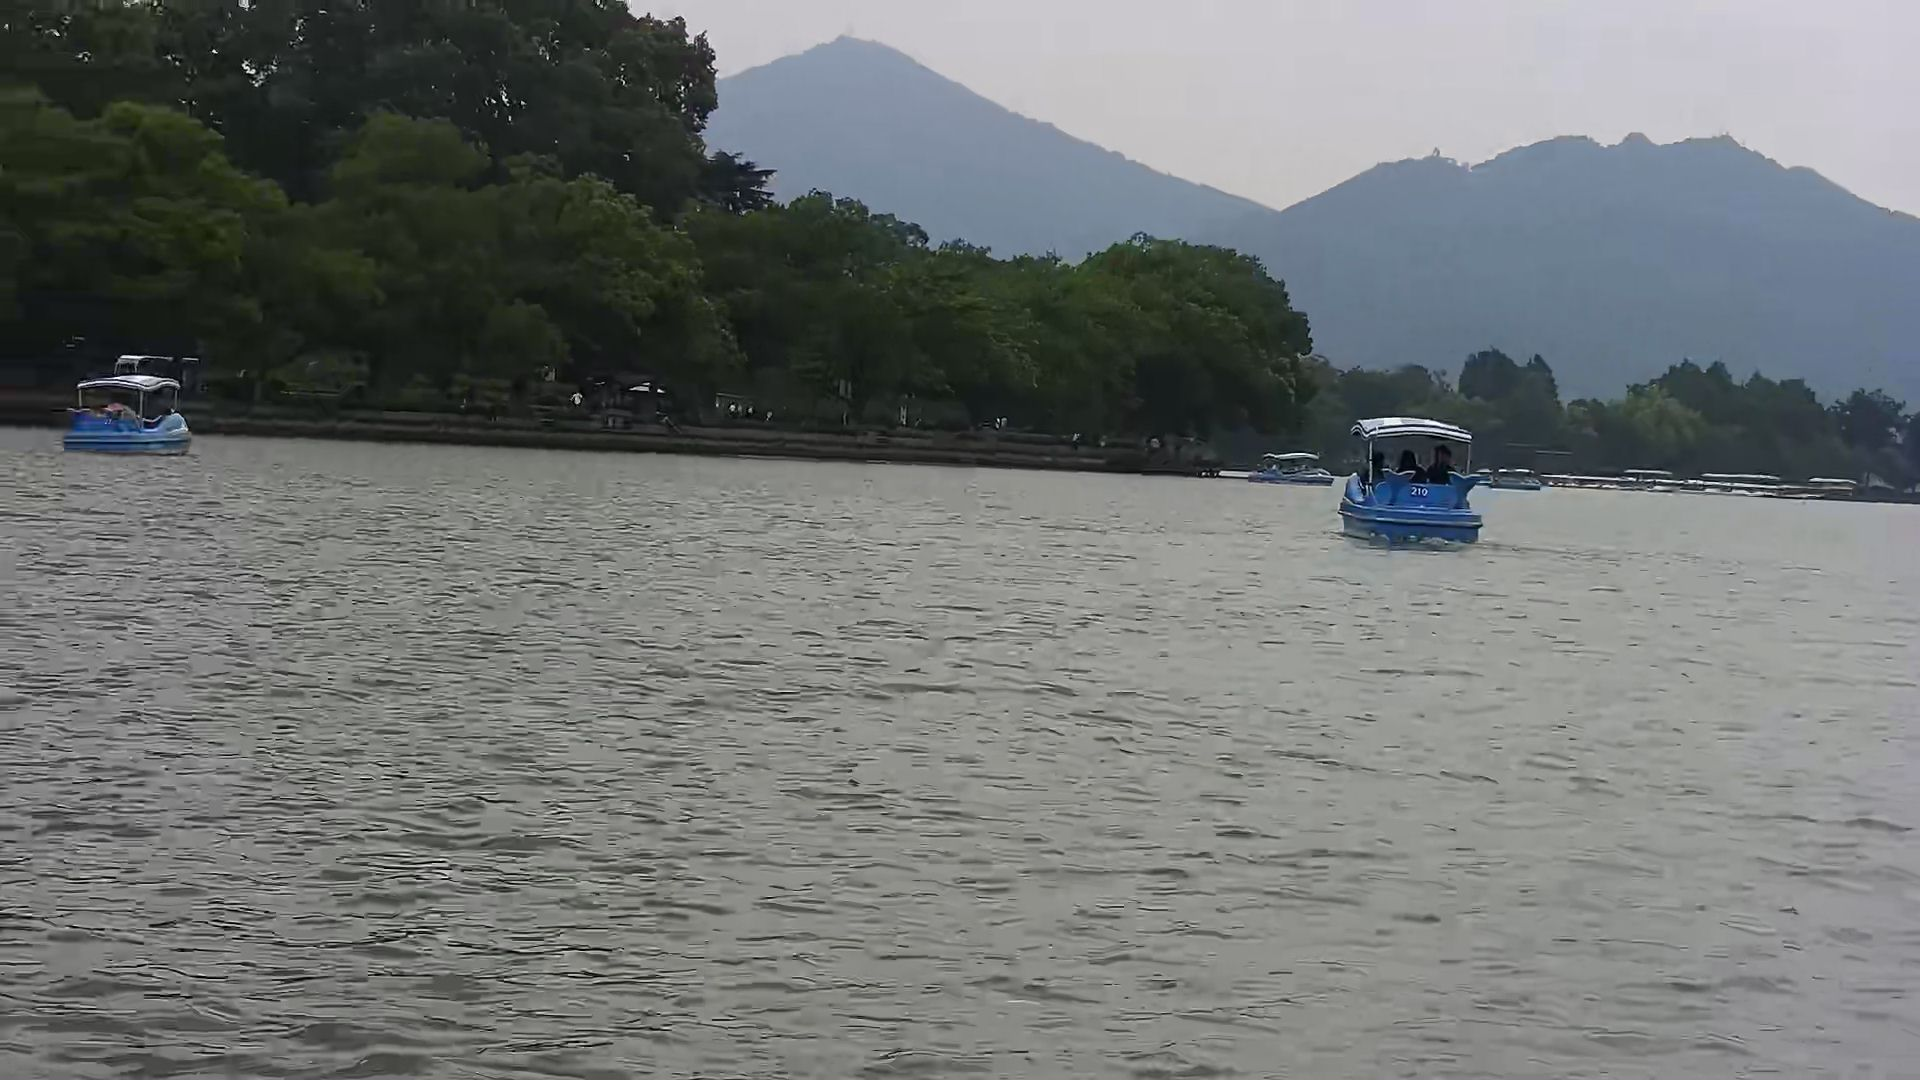boat: (1338, 410, 1487, 551), (55, 371, 202, 469), (1245, 448, 1335, 489)
